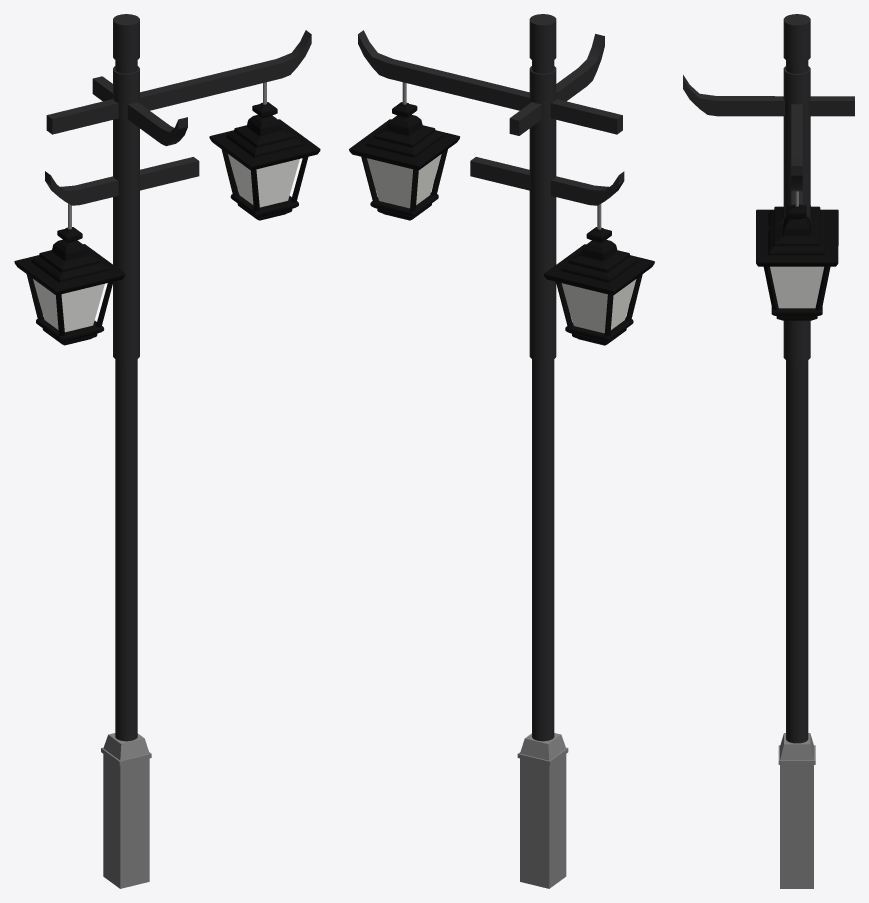
Rendered from fanggudeng.gltf.
3 renders of one model, left to right at view 1: azimuth 30°, elevation 25°; view 2: azimuth 150°, elevation 25°; view 3: azimuth 270°, elevation 25°, orthographic.
Visible parts, largest first — view 1: Box001; view 2: Box001; view 3: Box001.
Part boxes in pixels (bbox=[...]): Box001: bbox=[14, 14, 320, 888]; Box001: bbox=[349, 14, 654, 888]; Box001: bbox=[683, 14, 854, 888].
Size of the model in its own units: 3.34 by 10 by 1.81.
Materials: 4 (4 with a texture image).
